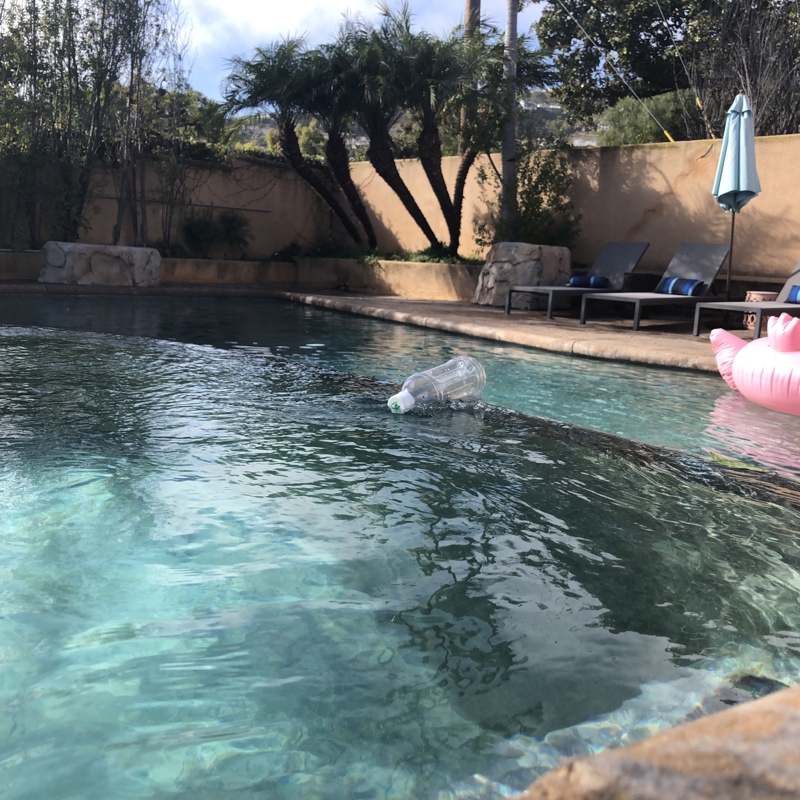Plastic Bottle: (383, 351, 491, 418)
